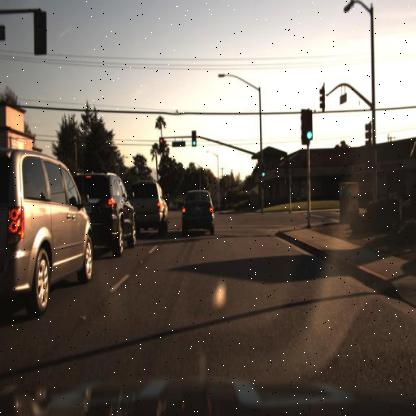car: (0, 149, 94, 322), (92, 167, 140, 265), (178, 179, 219, 241), (136, 175, 171, 243)
trafficLight-Green: (300, 106, 312, 147), (303, 118, 315, 147), (190, 128, 198, 151), (260, 164, 268, 183)
trafficLight-RedLeft: (158, 134, 166, 154)
